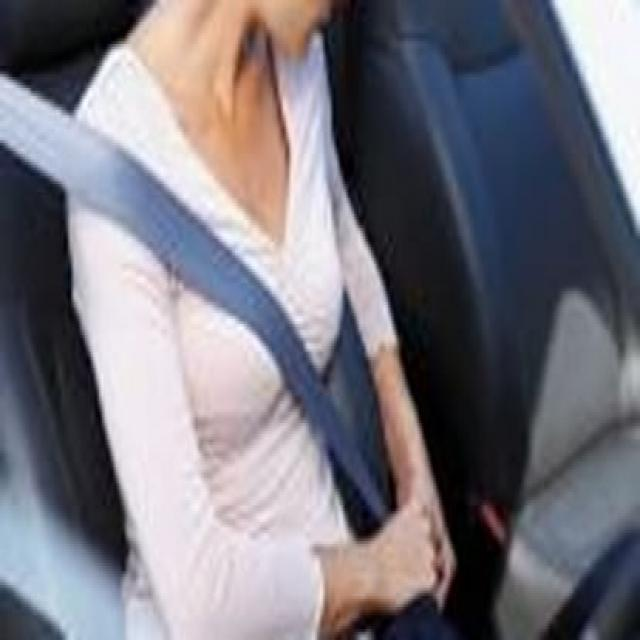seatbelt: (2, 58, 396, 520)
